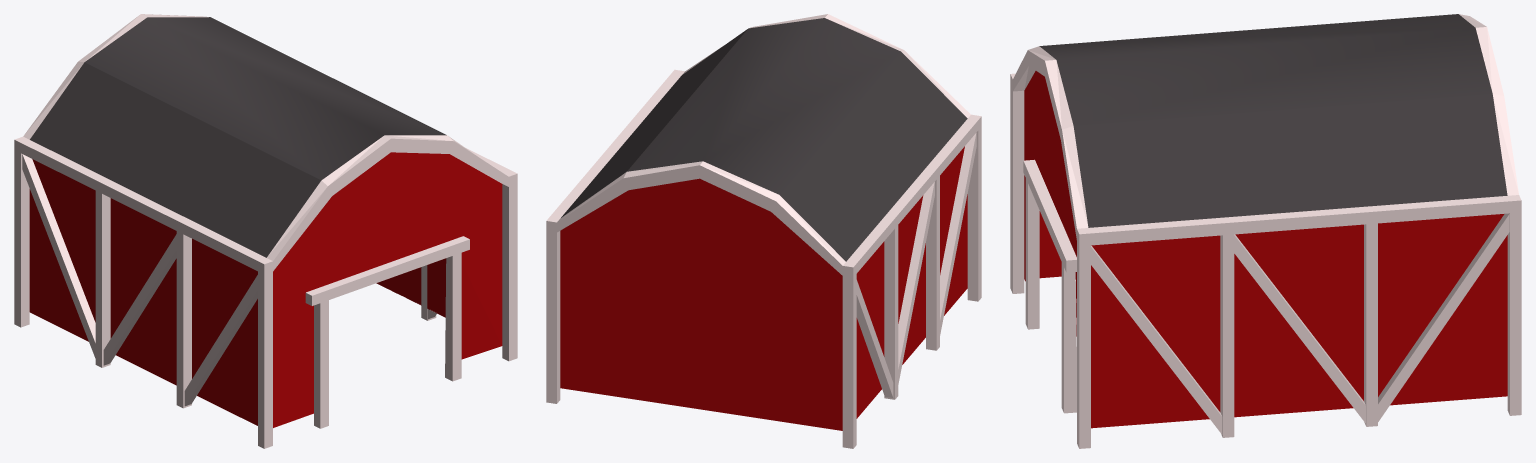
The model's file is Barn.fbx.
The picture shows the model from 3 angles, left to right: view 1: azimuth 30°, elevation 25°; view 2: azimuth 150°, elevation 25°; view 3: azimuth 270°, elevation 25°; orthographic projection. The views are drawn at different scales.
Parts seen in each view (by area): view 1: Barn; view 2: Barn; view 3: Barn.
Part boxes in pixels (bbox=[...]): Barn: bbox=[14, 14, 517, 448]; Barn: bbox=[546, 14, 981, 448]; Barn: bbox=[1010, 14, 1521, 448].
Bounding box in the file's own units: 5554 × 4106 × 6174.
